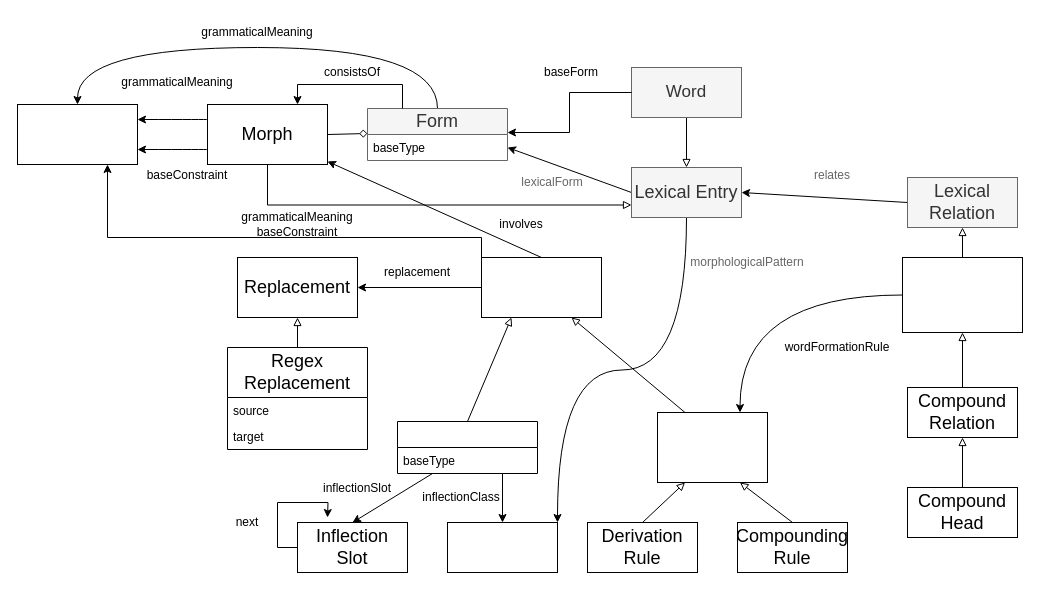
This 1040x590 diagram has some shape labels left out. Each missing label, with the box of its shape:
Grammatical Meaning: (16, 104, 138, 164)
Inflection Class: (446, 522, 558, 572)
Inflection Rule: (396, 420, 538, 474)
Rule: (480, 256, 602, 318)
Word Formation Relation: (902, 256, 1022, 332)
Word Formation Rule: (656, 412, 768, 482)
